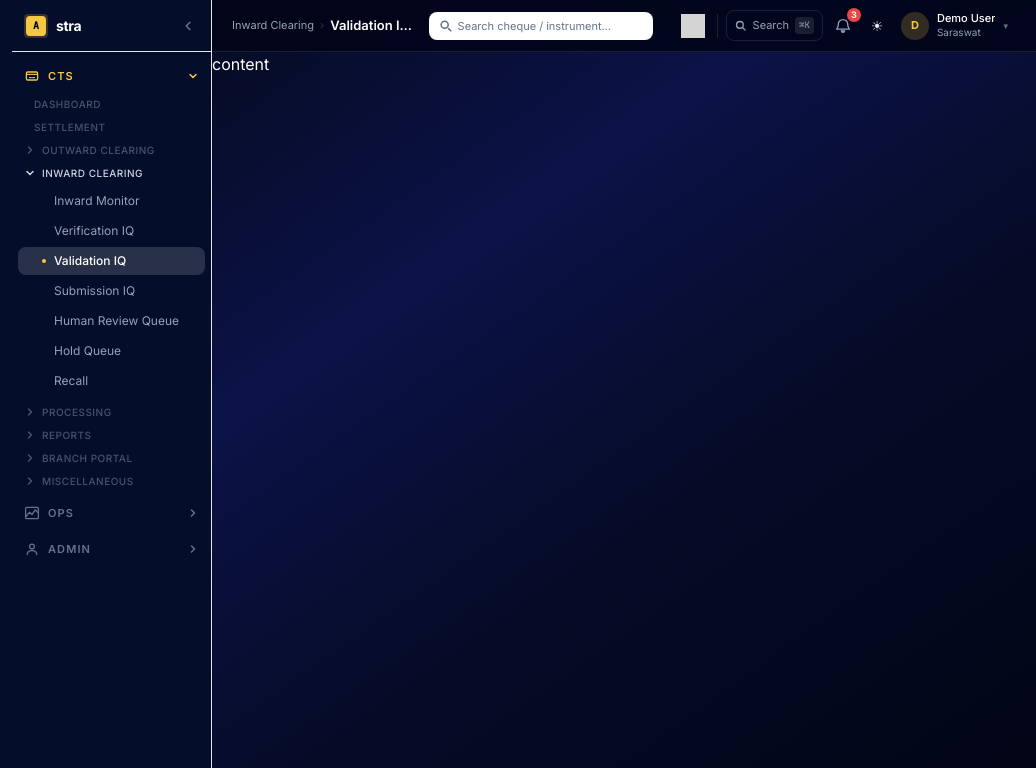
Test: AppShell sidebar navigation › collapses sidebar when collapse button is clicked
Click the button titled "Collapse sidebar": (188, 26) [177,14,199,36]
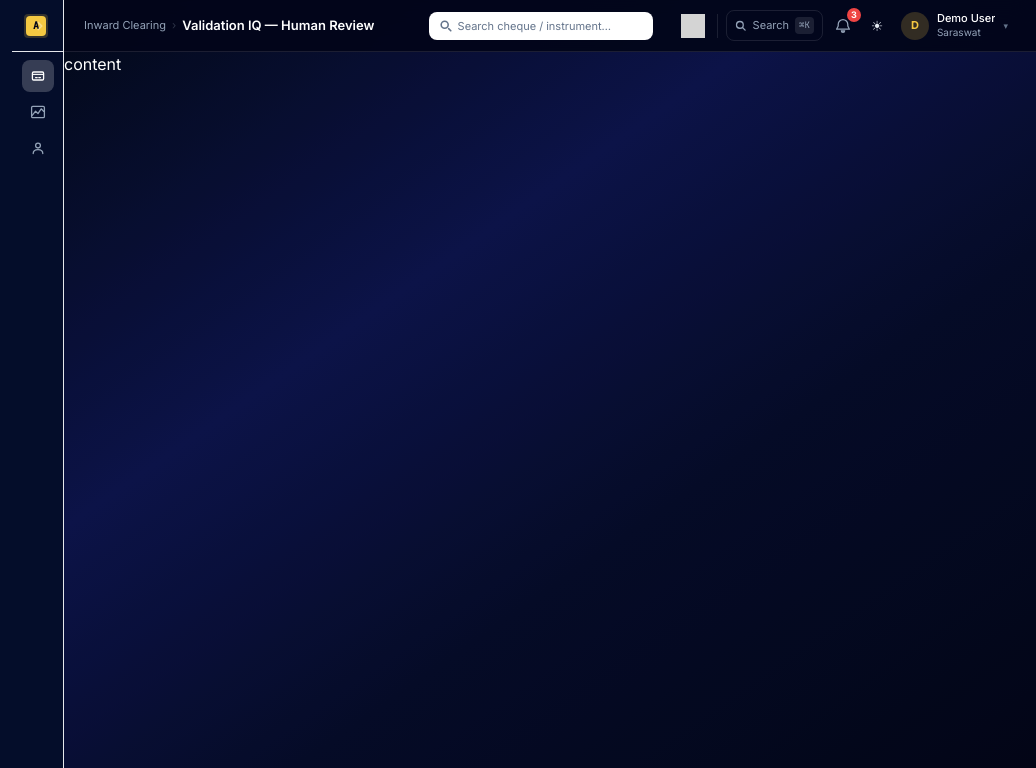
Expected: the button titled "Expand sidebar" is shown, [29,14,51,36]
Expected: the link "Human Review Queue" is gone
